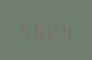five: (18, 17, 30, 38)
four: (57, 21, 69, 42)
six: (31, 18, 43, 39)
two: (44, 19, 56, 40)
